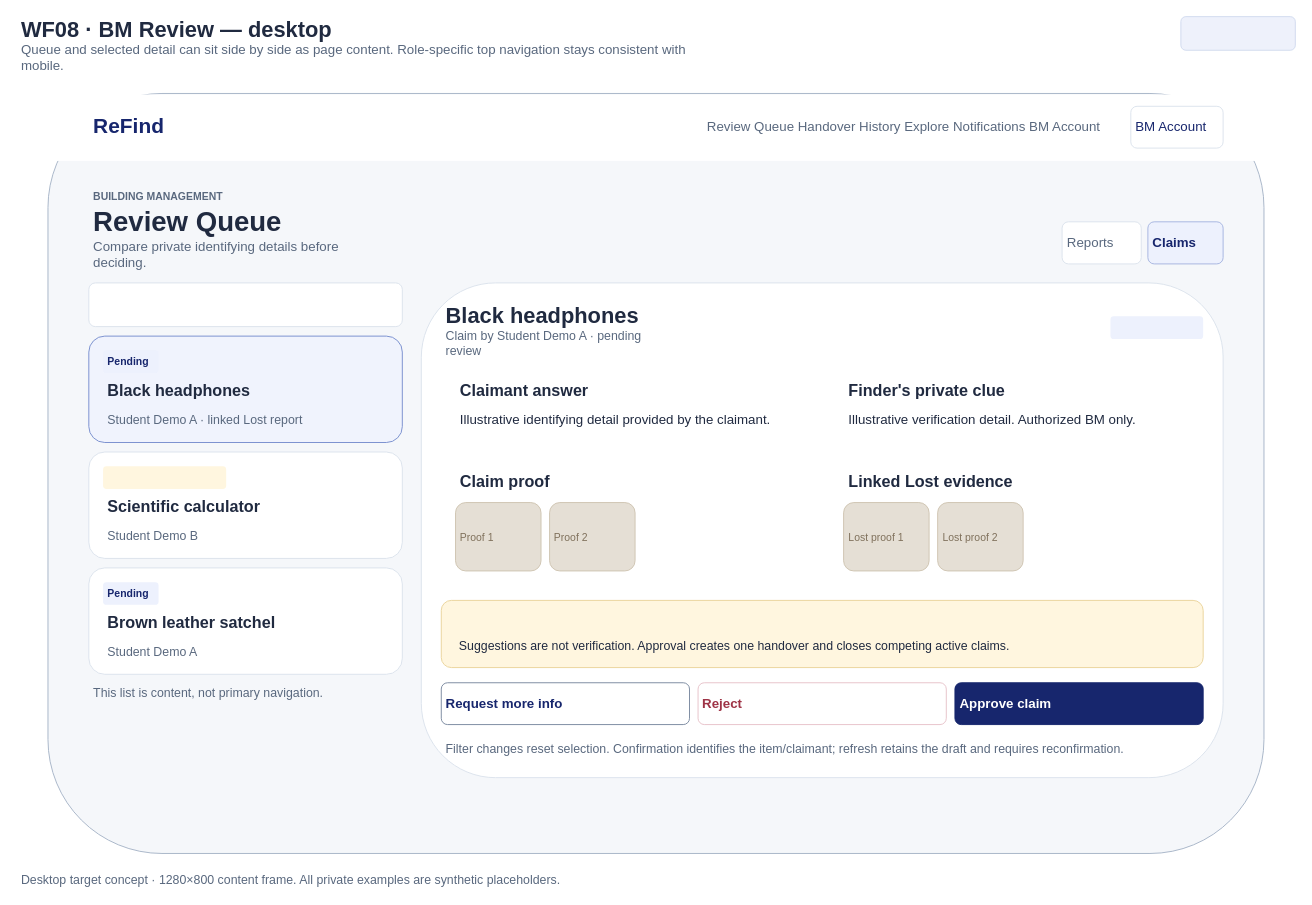
Some shapes in this 1312 by 905 pixel diagram are drawn without their labels. Here are the shapes that lost their labels. From the top down, the centre of each, then its label:
At point 1237,33: "CONCEPT / UX01".
At point 245,304: "Search pending claims".
At point 1156,327: "BM-only review".
At point 164,477: "Awaiting Student info".
